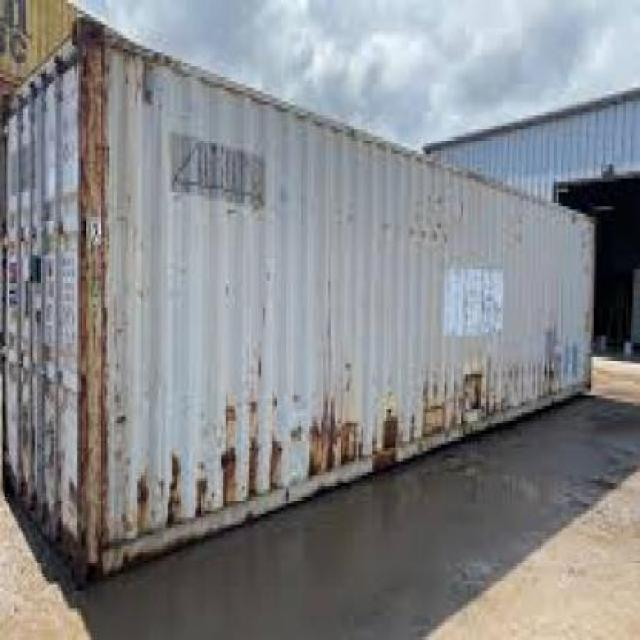rust: (72, 21, 110, 576), (420, 374, 504, 457), (307, 394, 366, 480), (374, 411, 400, 474), (223, 406, 237, 509), (249, 399, 263, 501), (270, 429, 286, 492), (169, 453, 181, 529), (138, 467, 149, 540), (196, 463, 209, 520)
